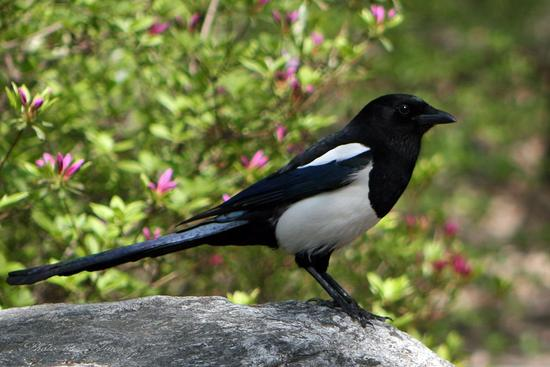magpie: (9, 93, 455, 328)
